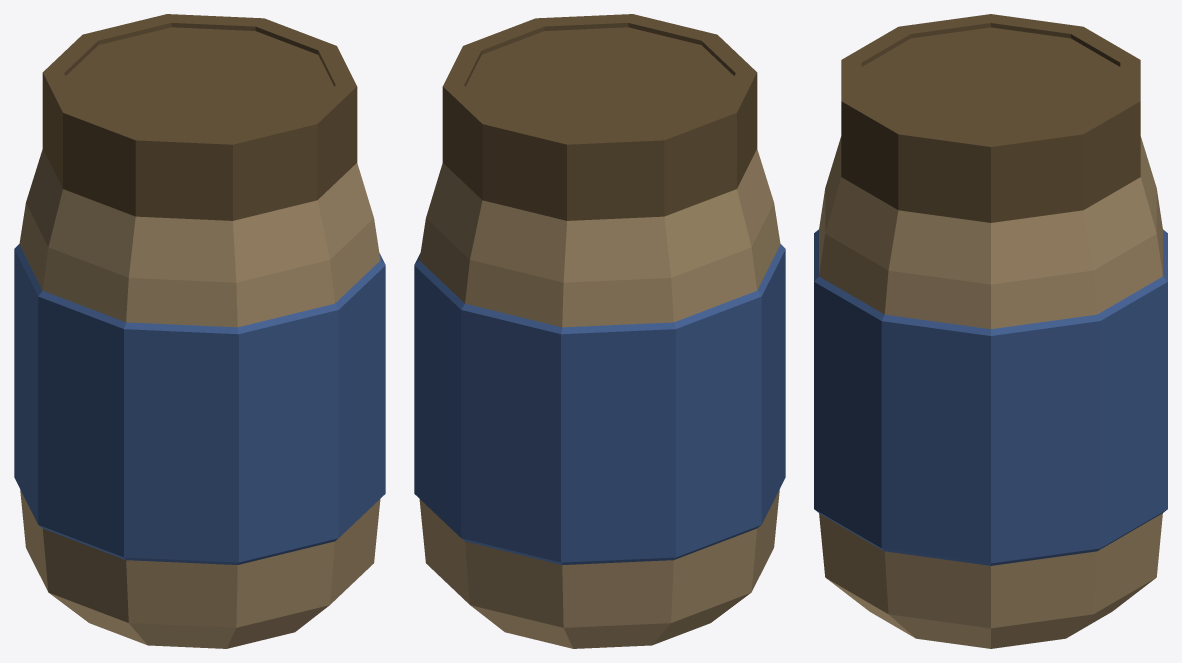
Rendered from PeanutButter_2.glb.
3 views of the same model, side by side, from view 1: azimuth 30°, elevation 25°; view 2: azimuth 150°, elevation 25°; view 3: azimuth 270°, elevation 25° (orthographic).
Visible parts, largest first — view 1: Blue, LightYellow, Brown; view 2: Blue, LightYellow, Brown; view 3: Blue, LightYellow, Brown.
Boxes of the visible parts, x1,y1,x2,y2 form: Blue: [14, 244, 385, 564]; LightYellow: [19, 149, 380, 648]; Brown: [42, 14, 357, 220]; Blue: [414, 244, 785, 564]; LightYellow: [419, 149, 780, 648]; Brown: [442, 14, 757, 220]; Blue: [814, 229, 1167, 565]; LightYellow: [819, 136, 1162, 648]; Brown: [841, 14, 1140, 222].
Bounding box in the file's own units: 0.4746 × 0.7243 × 0.4514.
